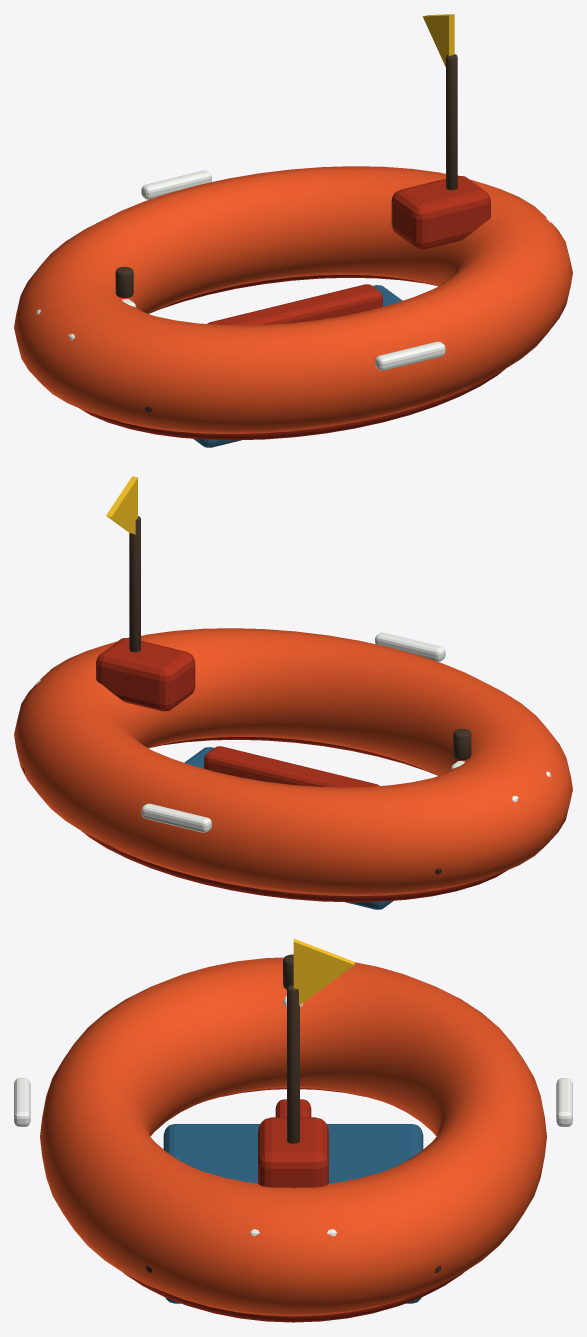
File: SM_LifeRaft.fbx
3 views of the same model, one above another, from view 1: azimuth 30°, elevation 25°; view 2: azimuth 150°, elevation 25°; view 3: azimuth 270°, elevation 25° (orthographic). The views are drawn at different scales.
Visible parts, largest first — view 1: SM_LifeRaft; view 2: SM_LifeRaft; view 3: SM_LifeRaft.
Part boxes in pixels (box(x1,y1,x2,y2)): SM_LifeRaft: box(14, 14, 572, 447); SM_LifeRaft: box(14, 476, 572, 909); SM_LifeRaft: box(14, 939, 572, 1322).
Size of what is drawn, in the model's own units: 1.46 by 0.8775 by 1.18.
